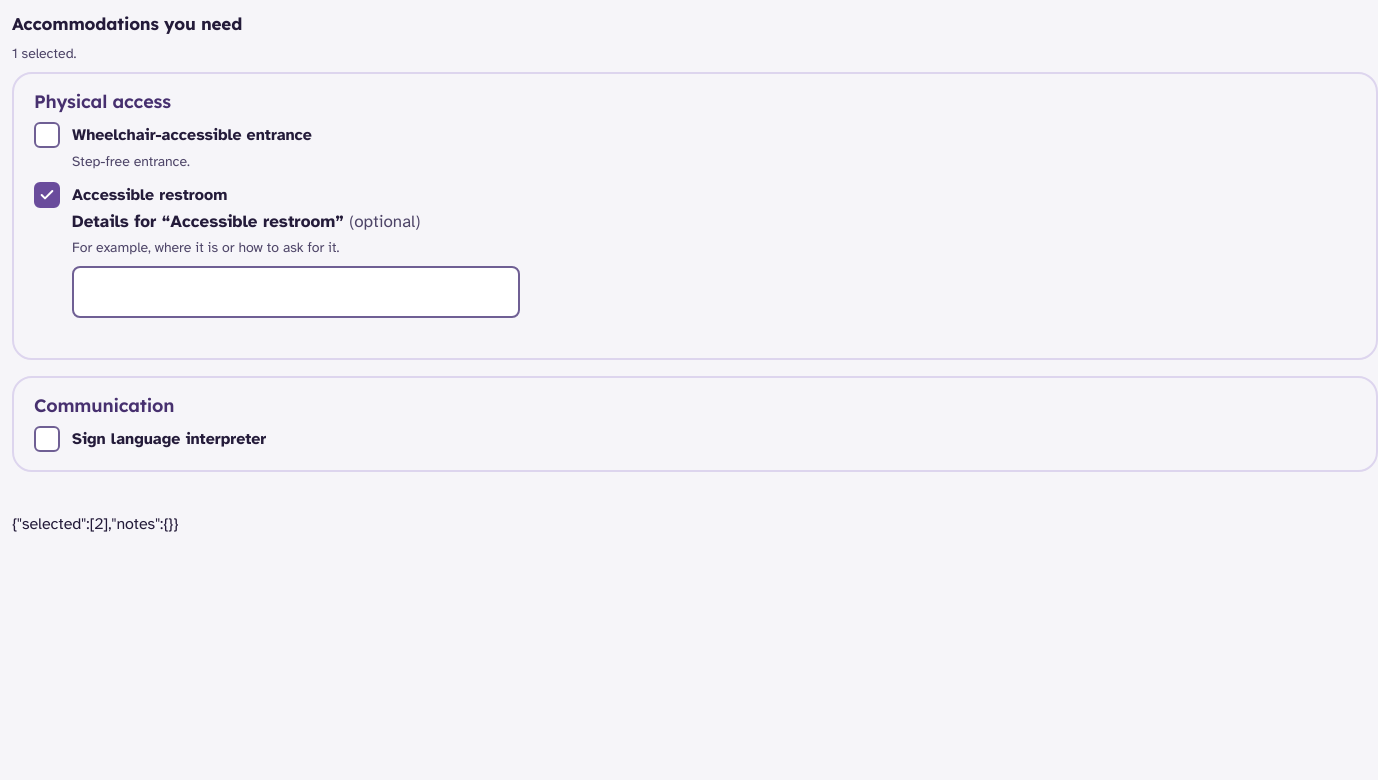
Test case: AccommodationPicker › posting mode asks for a note per checked accommodation
This screenshot has width=1378, height=780.
Type "Ground floor" into the field labelled "Details for “Accessible restroom” (optional)".
click(296, 292); type("Ground floor")  # box [72,266,520,318]
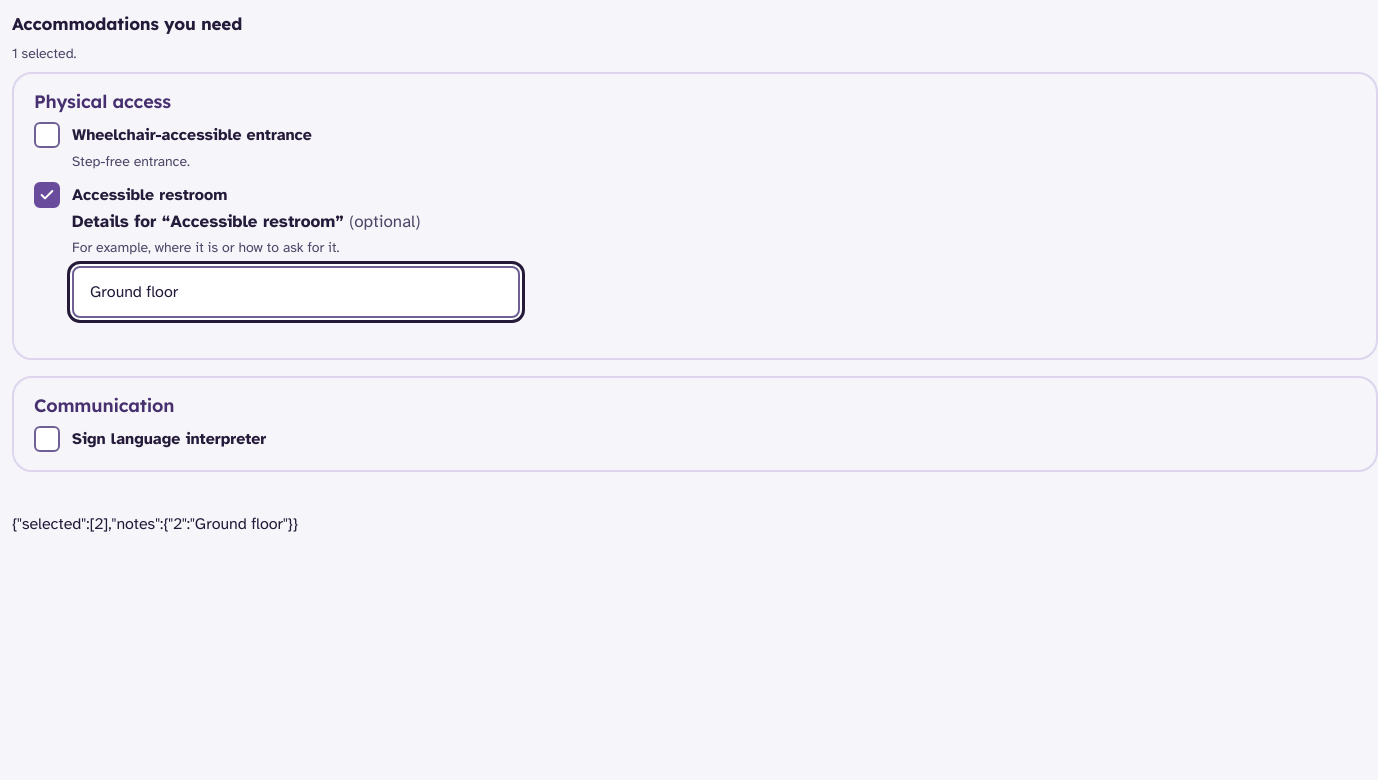
Result: the text with test id "state" shows "\"notes\":{\"2\":\"Ground floor\"}" at [12,514,298,534]
